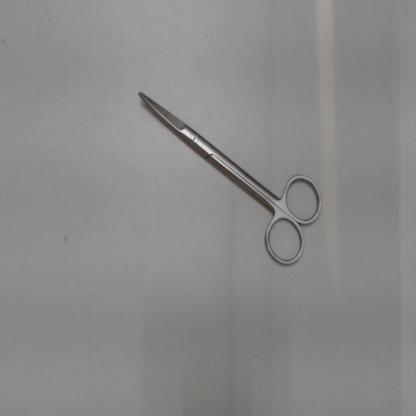Curved Mayo Scissors: (132, 82, 330, 276)
